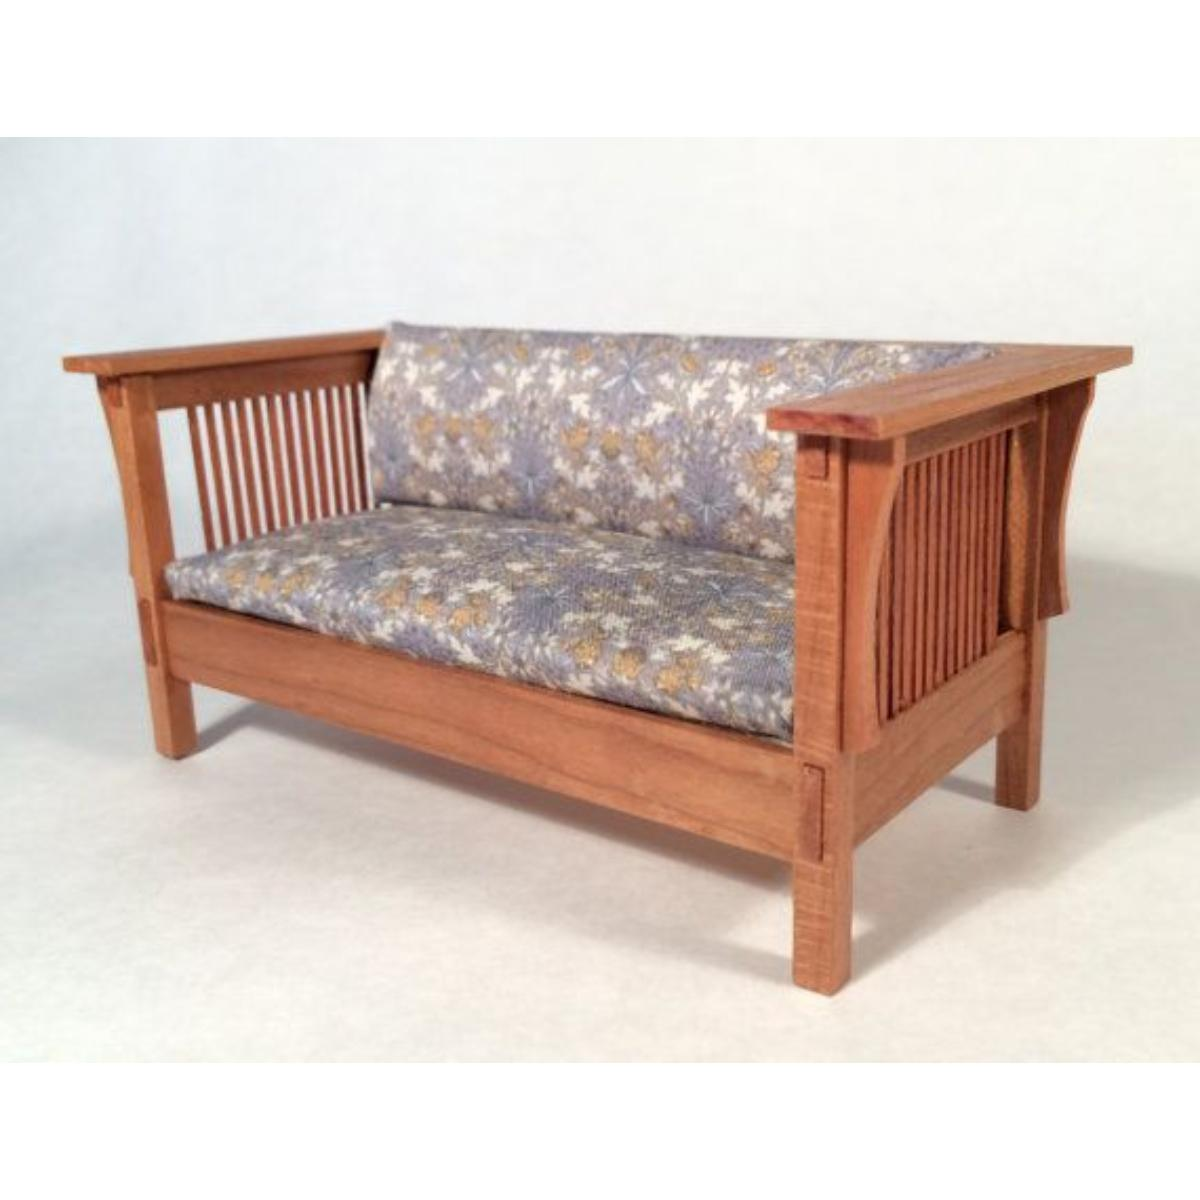Sofa: (55, 319, 1139, 1001)
